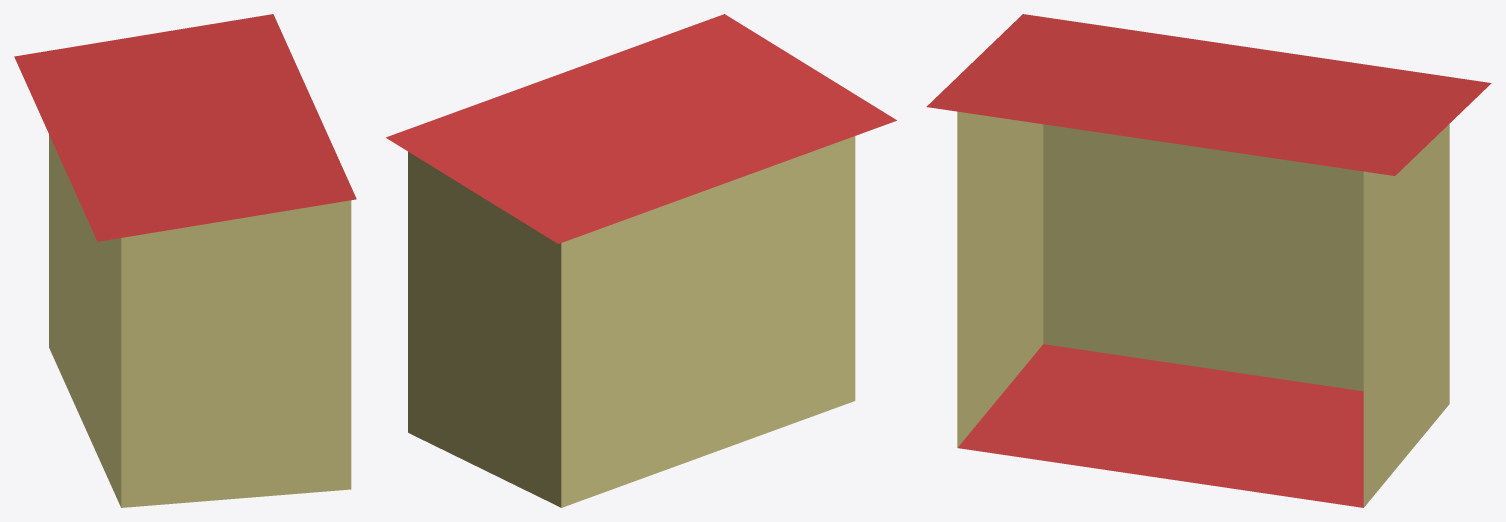
The picture shows the model from 3 angles, left to right: view 1: azimuth 30°, elevation 25°; view 2: azimuth 150°, elevation 25°; view 3: azimuth 270°, elevation 25°; orthographic projection. The views are drawn at different scales.
Bounding box in the file's own units: 6.65 × 8.53 × 5.6.
